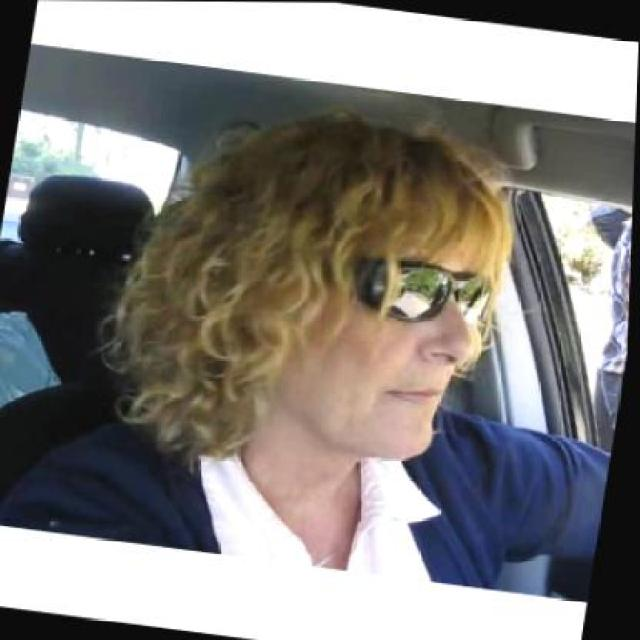attentif: (264, 105, 518, 472)
